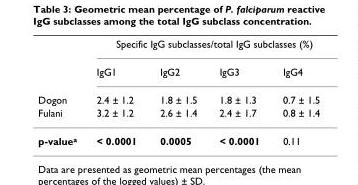table: (37, 37, 319, 146)
table column: (207, 37, 270, 146), (86, 37, 147, 146), (147, 37, 207, 146), (37, 37, 86, 146), (270, 37, 319, 146)
table column header: (37, 37, 319, 126)
table row: (37, 57, 319, 85), (37, 105, 319, 126), (37, 37, 319, 57), (37, 85, 319, 105), (37, 126, 319, 146)
table spanning cell: (86, 37, 319, 57), (37, 37, 86, 126), (207, 57, 270, 126), (86, 57, 147, 126), (147, 57, 207, 126), (270, 57, 319, 126)
